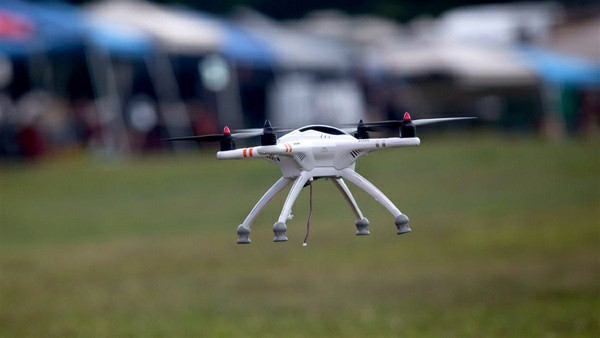maybay_khongnguoilai: (171, 106, 436, 234)
